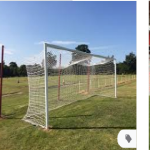goals: (22, 41, 117, 129)
